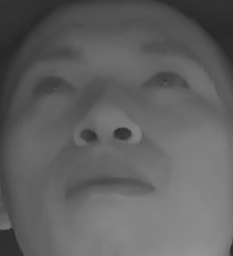eye: (143, 60, 195, 98), (28, 66, 77, 102)
mouth: (57, 155, 156, 209)
